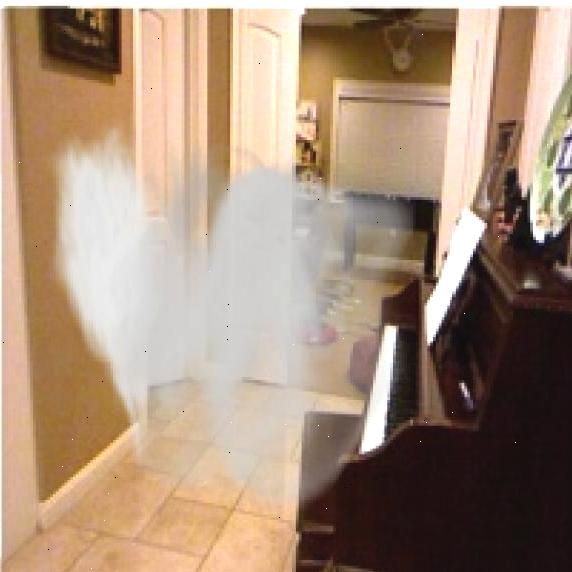smoke: (47, 117, 416, 523)
